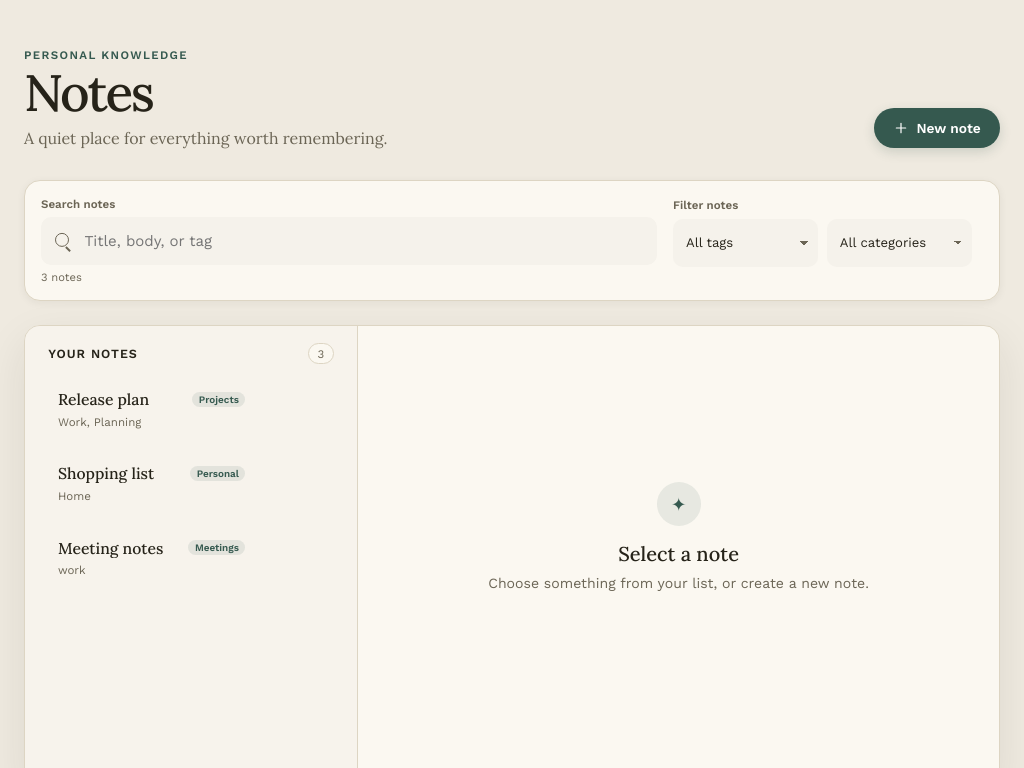
Test: App filtering interactions › hides stale note details when the selected note is filtered out
The width and height of the screenshot is (1024, 768).
Click the button "Meeting notes Meetings work".
click(150, 558)  # box [44, 525, 256, 590]
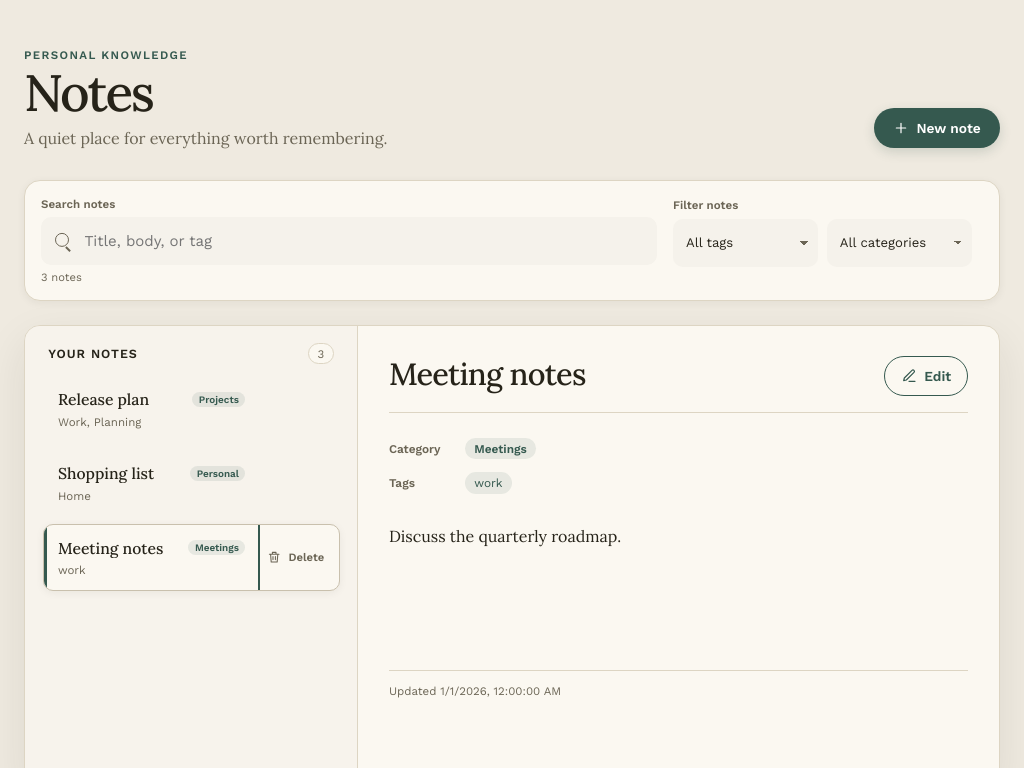
expect the heading "Meeting notes" is shown: met, box [389, 356, 586, 392]
Select "Home" in the 1st dropdown named "Tag" at (746, 243), box [673, 219, 818, 267]
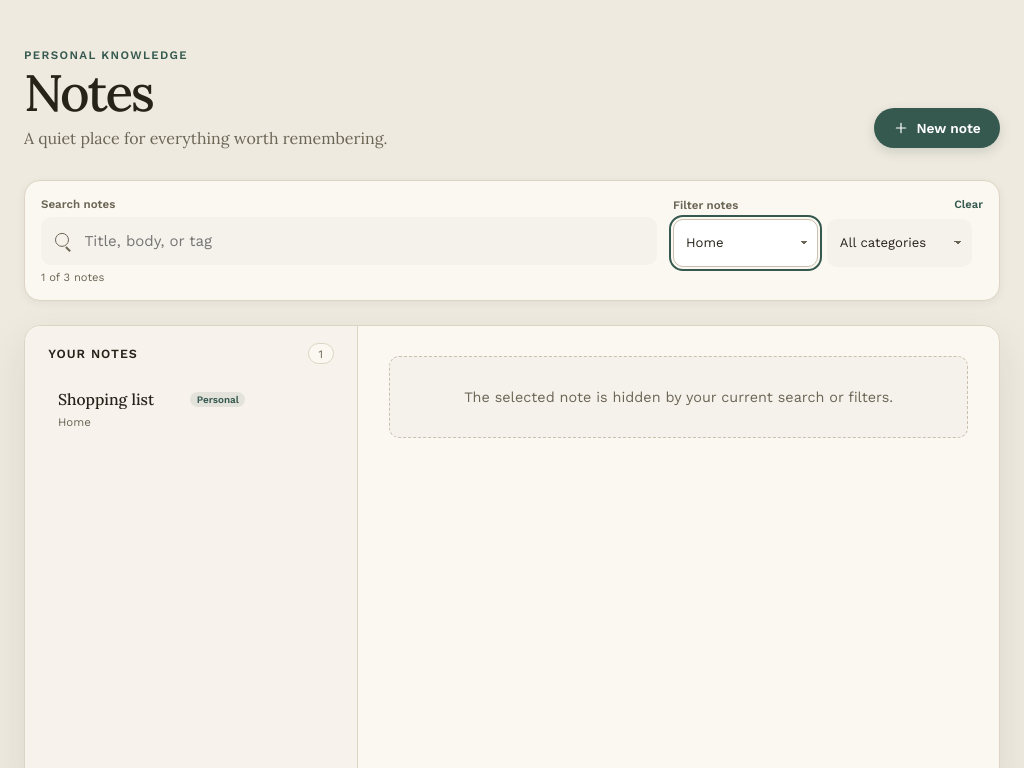
expect the button "Meeting notes" is gone: met
expect the text "The selected note is hidden by your current search or filters." is shown: met, box [389, 356, 968, 438]
